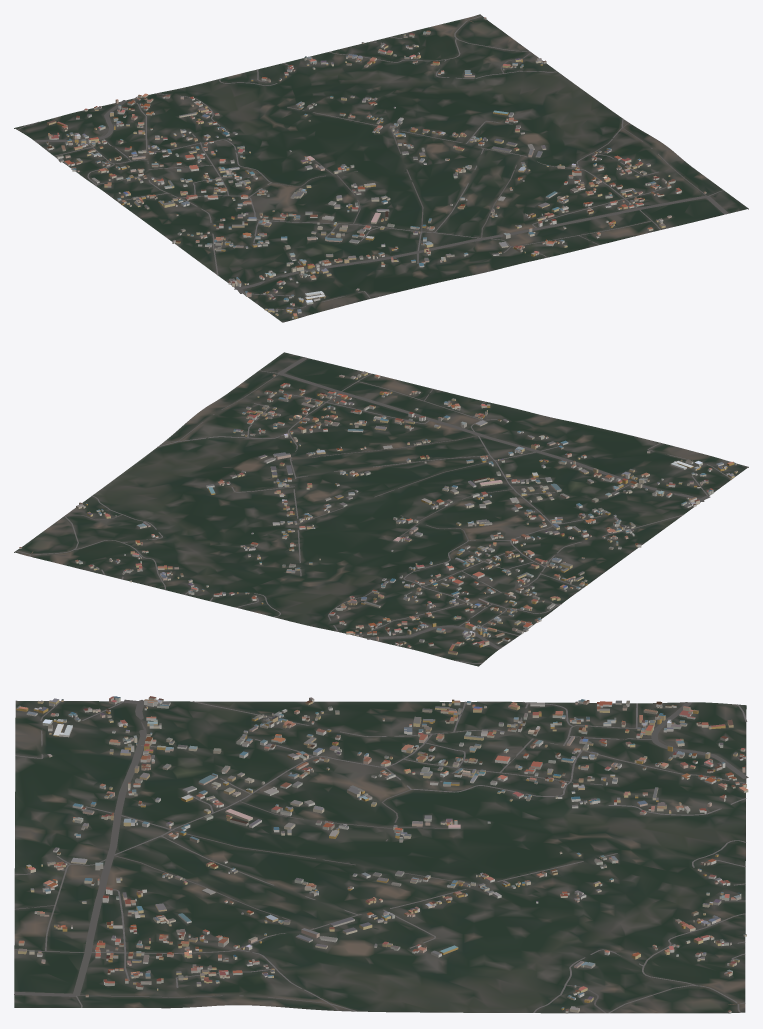
3 views of the same model, one above another, from view 1: azimuth 30°, elevation 25°; view 2: azimuth 150°, elevation 25°; view 3: azimuth 270°, elevation 25° (orthographic). The views are drawn at different scales.
Parts seen in each view (by area): view 1: ground, buildings, roads; view 2: ground, buildings, roads; view 3: ground, buildings, roads.
Boxes of the visible parts, x1,y1,x2,y2 form: ground: [14, 14, 748, 322]; buildings: [46, 17, 706, 318]; roads: [17, 15, 728, 311]; ground: [14, 352, 748, 666]; buildings: [19, 371, 737, 655]; roads: [16, 357, 729, 663]; ground: [14, 700, 746, 1013]; buildings: [16, 696, 748, 1013]; roads: [14, 699, 748, 1013].
Size of the model in its own units: 1409 by 27.86 by 1410.
